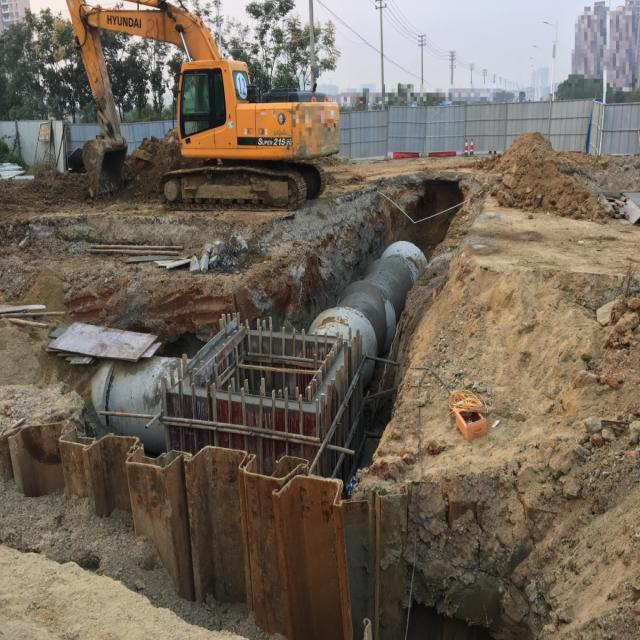excavator: (64, 0, 340, 210)
